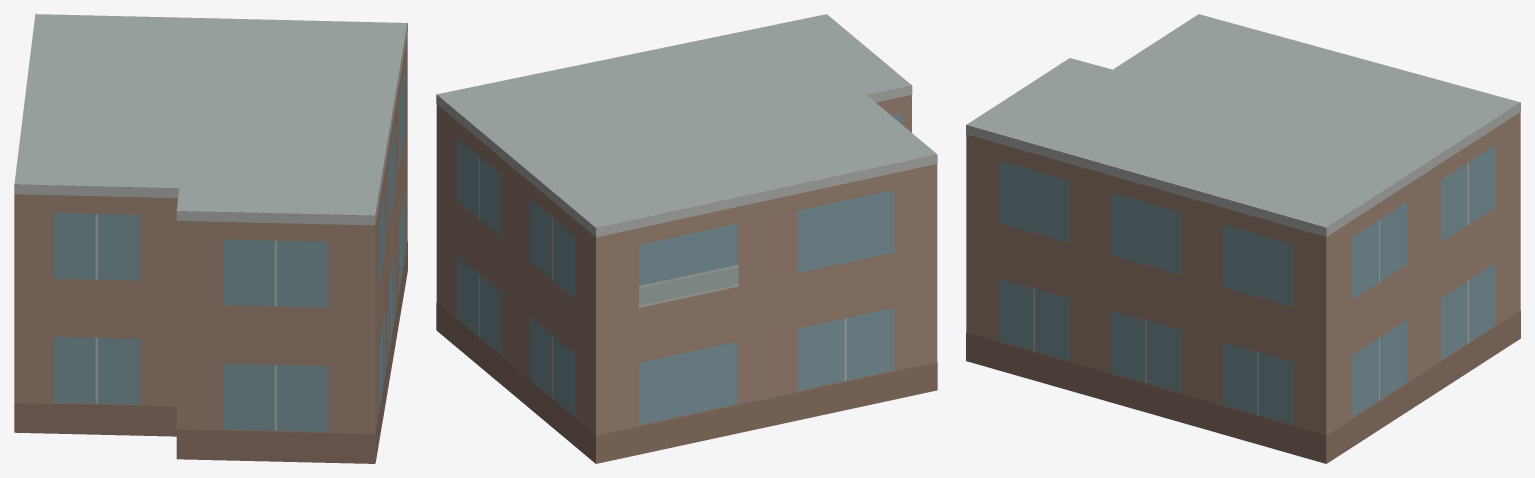
File: survey-upis-32676531.glb
3 views of the same model, side by side, from view 1: azimuth 30°, elevation 25°; view 2: azimuth 150°, elevation 25°; view 3: azimuth 270°, elevation 25° (orthographic). The views are drawn at different scales.
Visible parts, largest first — view 1: survey-upis-32676531.tmp; view 2: survey-upis-32676531.tmp; view 3: survey-upis-32676531.tmp.
Boxes of the visible parts, x1=… form: survey-upis-32676531.tmp: x1=14, y1=14, x2=407, y2=463; survey-upis-32676531.tmp: x1=436, y1=14, x2=937, y2=463; survey-upis-32676531.tmp: x1=966, y1=14, x2=1520, y2=463.
Bounding box in the file's own units: 11.84 × 6.1 × 12.99.
